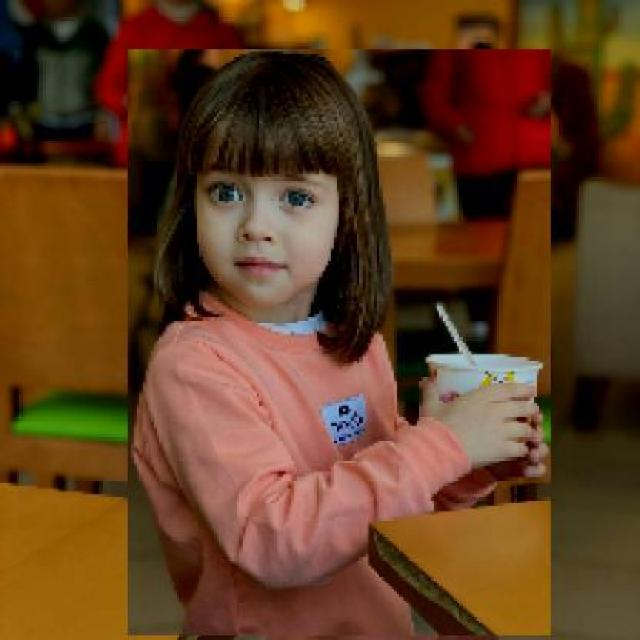child: (126, 49, 551, 637)
